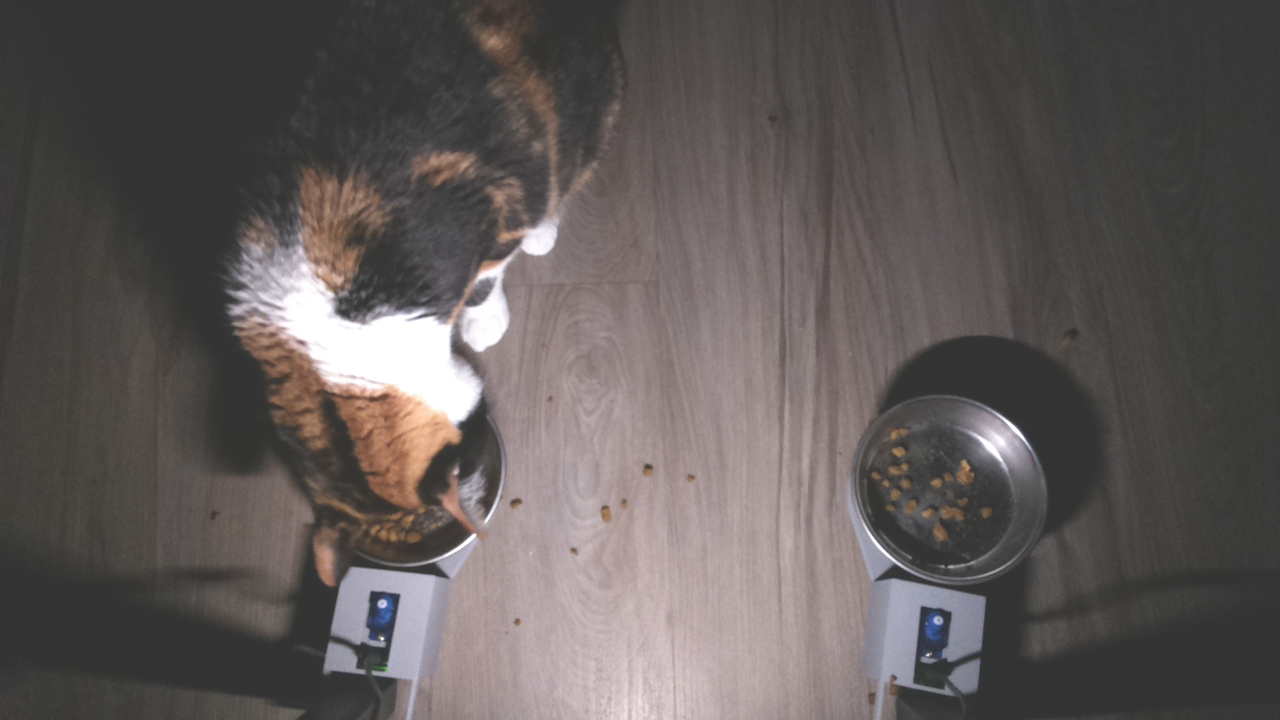bella_eating: (247, 305, 508, 576)
open_bowl: (848, 386, 1050, 590)
